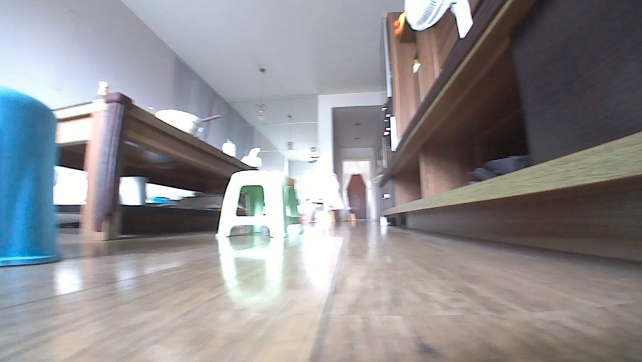TV_stand: (370, 0, 641, 262)
tea_table: (46, 90, 250, 243)
